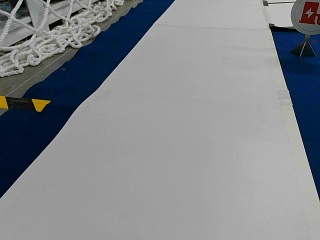battery: (291, 0, 320, 34)
